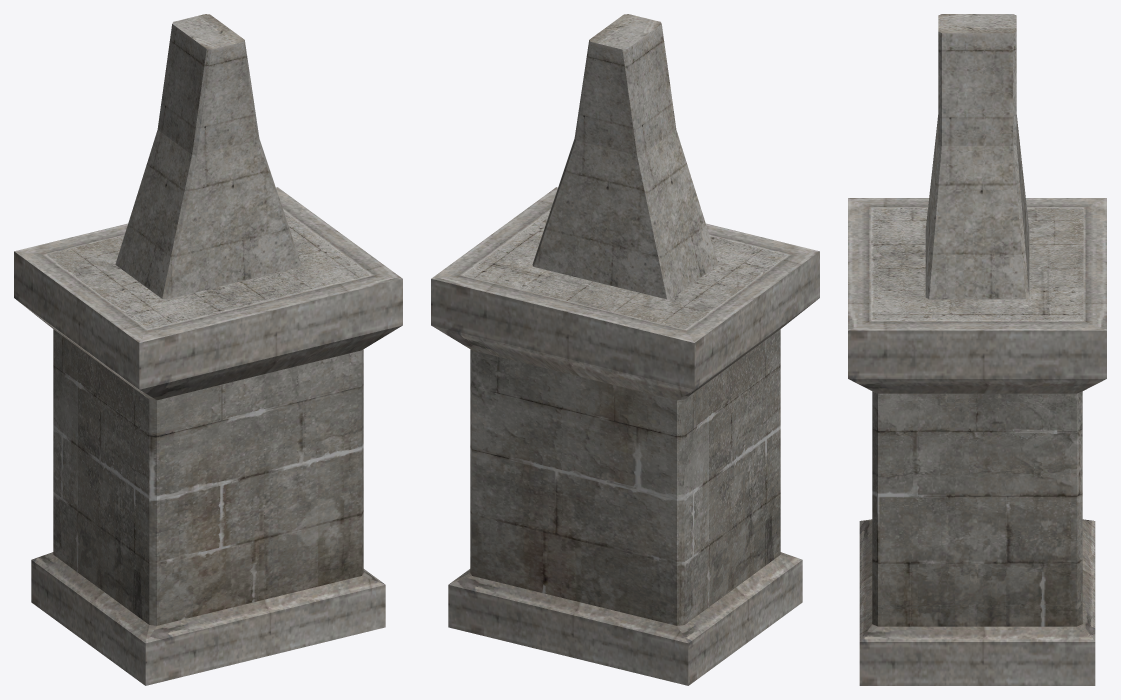
The model's file is bg_lut_lucastle_entrancedeco02_sm_msj.FBX.
3 views of the same model, side by side, from view 1: azimuth 30°, elevation 25°; view 2: azimuth 150°, elevation 25°; view 3: azimuth 270°, elevation 25° (orthographic). The views are drawn at different scales.
Visible parts, largest first — view 1: bg_lut_lucastle_entrancedeco02_sm_msj; view 2: bg_lut_lucastle_entrancedeco02_sm_msj; view 3: bg_lut_lucastle_entrancedeco02_sm_msj.
Boxes of the visible parts, box(x1,y1,x2,y2) form: bg_lut_lucastle_entrancedeco02_sm_msj: box(14, 14, 402, 685); bg_lut_lucastle_entrancedeco02_sm_msj: box(431, 14, 819, 685); bg_lut_lucastle_entrancedeco02_sm_msj: box(848, 14, 1106, 685).
Size of the model in its own units: 67.8 by 143 by 55.85.
